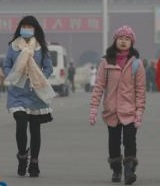person: (89, 24, 151, 185), (5, 14, 52, 178), (67, 62, 77, 93), (148, 61, 157, 91), (88, 66, 97, 92), (142, 59, 149, 92)
